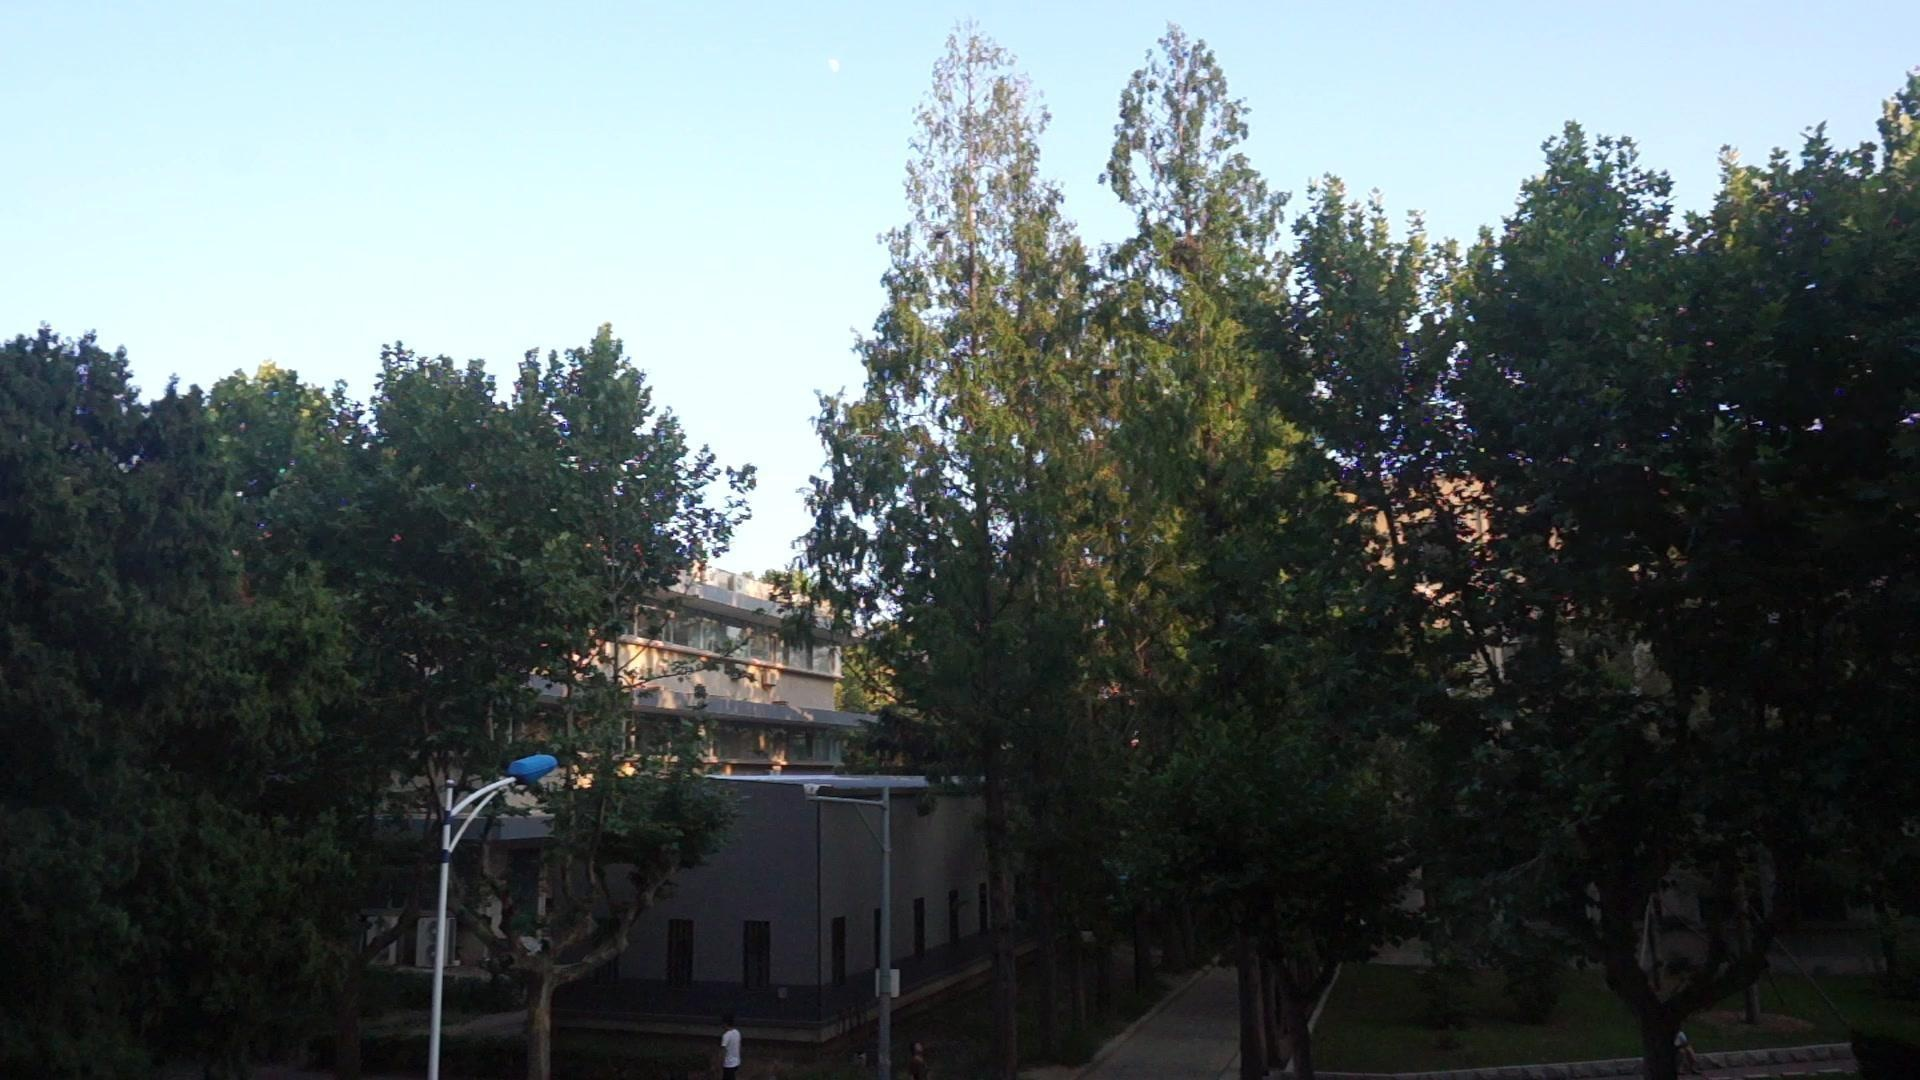UAV: (924, 231, 952, 243)
